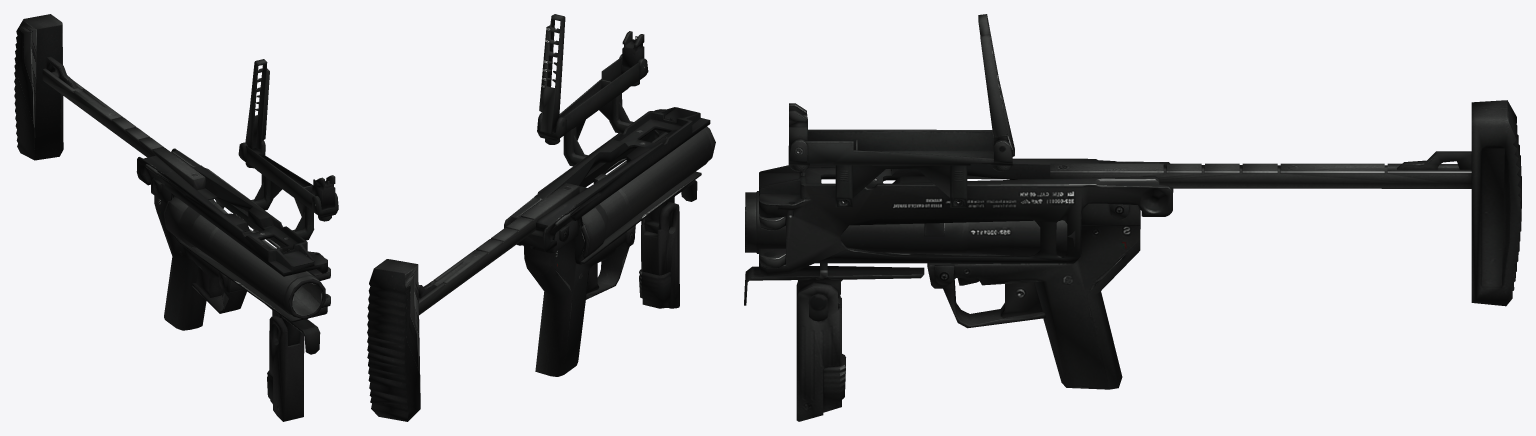
Rendered from launcher_low.fbx.
The picture shows the model from 3 angles, left to right: view 1: azimuth 30°, elevation 25°; view 2: azimuth 150°, elevation 25°; view 3: azimuth 270°, elevation 25°; orthographic projection. The views are drawn at different scales.
Visible parts, largest first — view 1: grenade_launcher; view 2: grenade_launcher; view 3: grenade_launcher.
Part boxes in pixels (<box>): grenade_launcher: <box>14,14,338,421</box>; grenade_launcher: <box>367,14,715,421</box>; grenade_launcher: <box>744,14,1521,421</box>.
Size of the model in its own units: 8.71 by 35.42 by 59.31.
